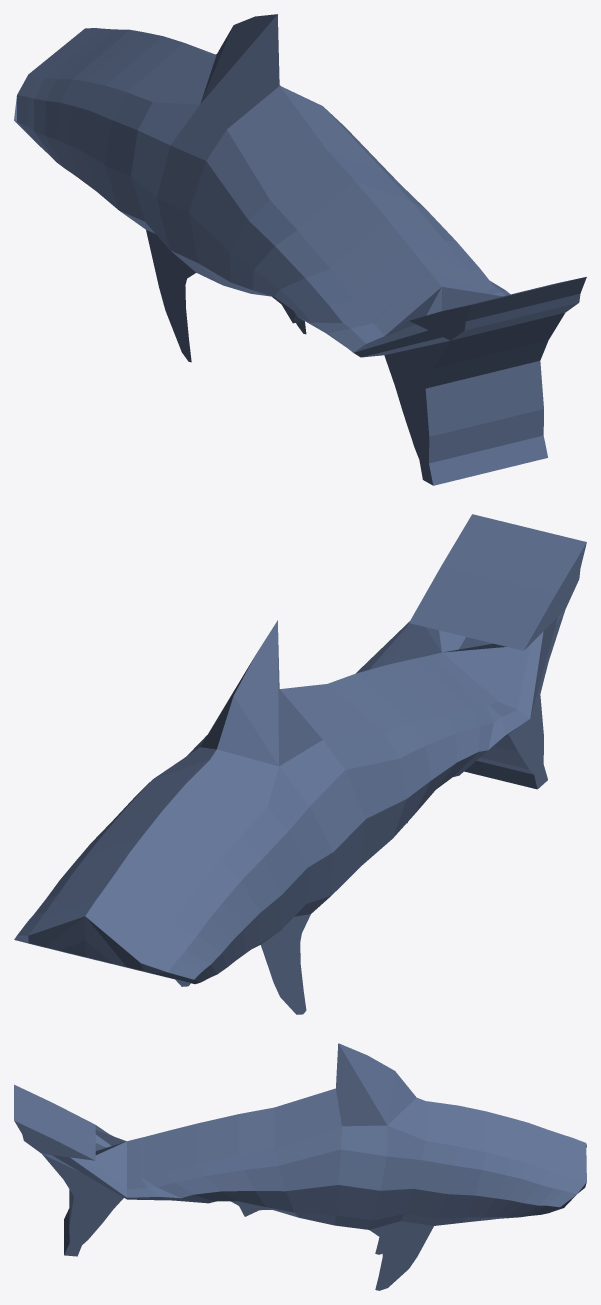
The model's file is sharky.glb.
The picture shows the model from 3 angles, top to bottom: view 1: azimuth 30°, elevation 25°; view 2: azimuth 150°, elevation 25°; view 3: azimuth 270°, elevation 25°; orthographic projection. The views are drawn at different scales.
Visible parts, largest first — view 1: Plane; view 2: Plane; view 3: Plane.
Boxes of the visible parts, <box> form: Plane: <box>14,14,586,485</box>; Plane: <box>14,514,586,1014</box>; Plane: <box>14,1043,586,1290</box>.
Bounding box in the file's own units: 3.08 × 5.94 × 13.42.
